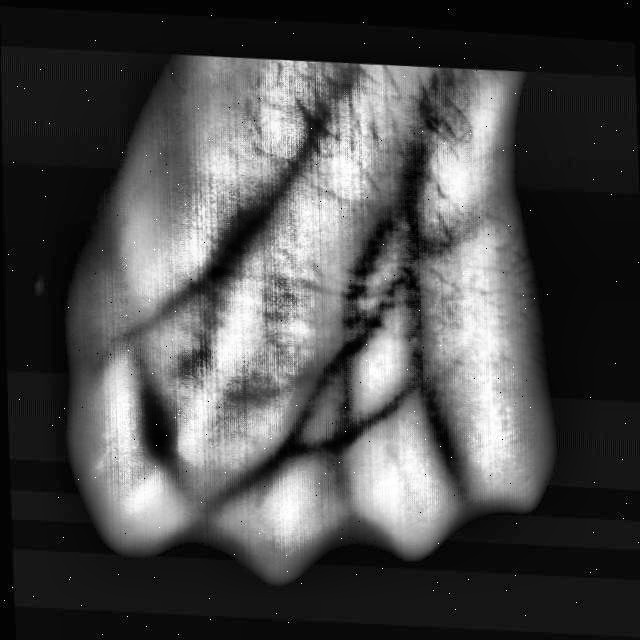Vein: (164, 130, 336, 315), (398, 154, 429, 357)
